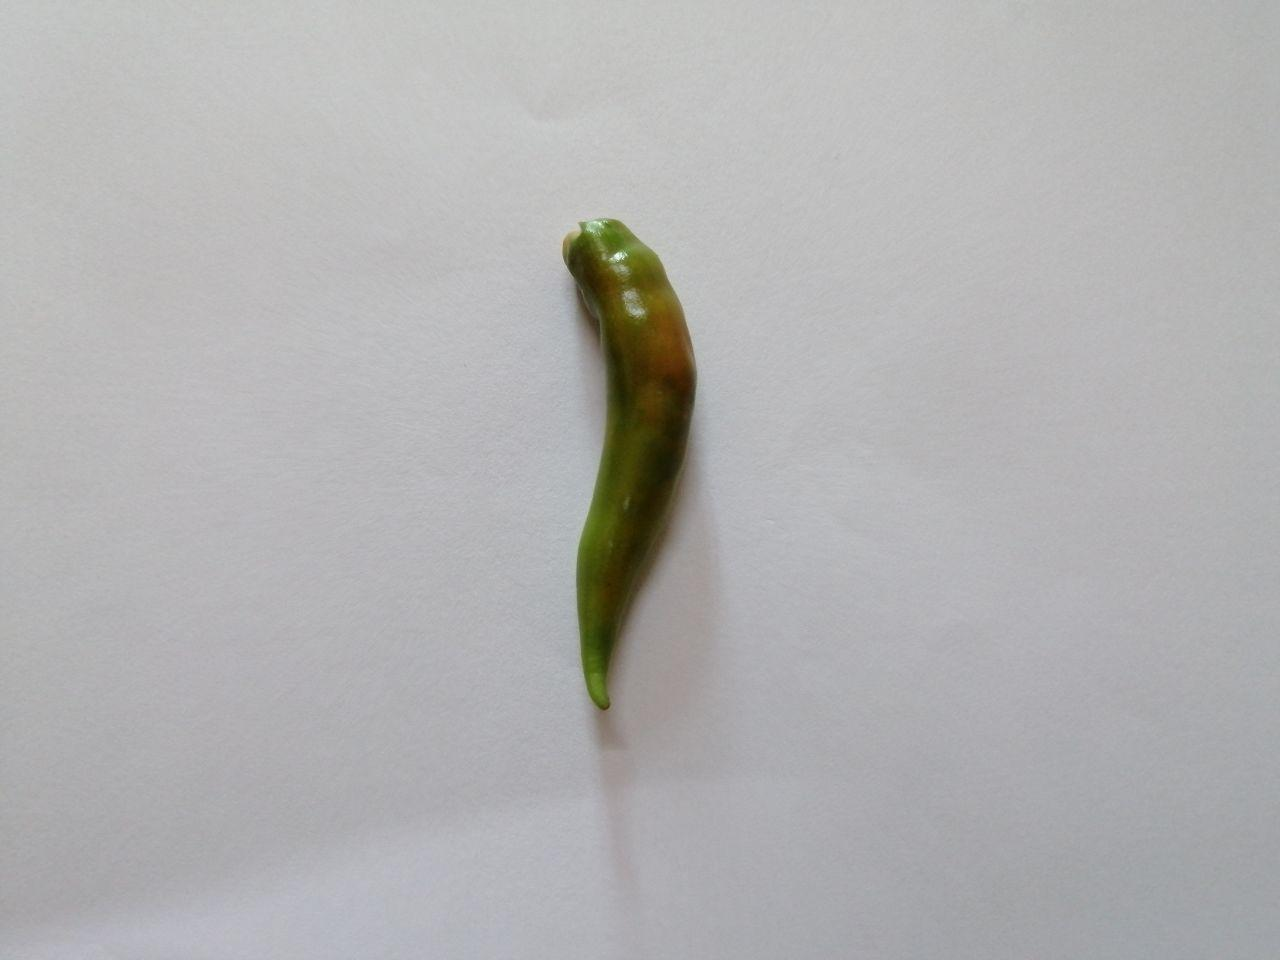lada hijau: (540, 194, 719, 728)
